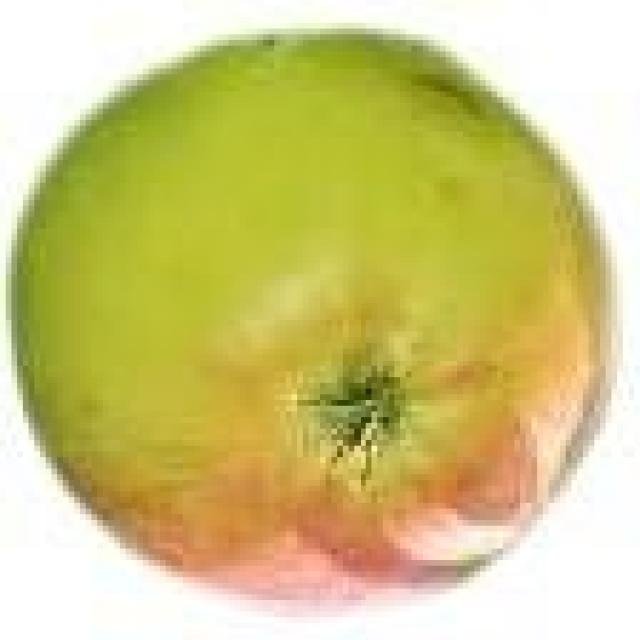Rotten Apple: (14, 31, 620, 603)
